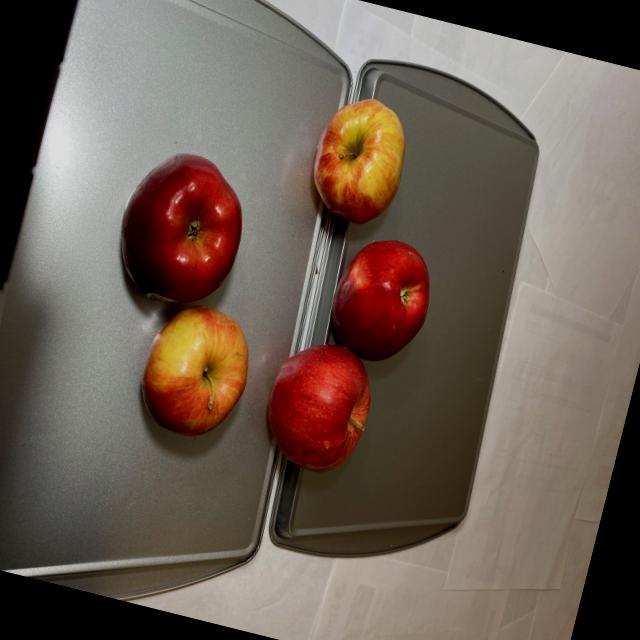apple: (238, 88, 476, 494), (74, 136, 296, 450)
